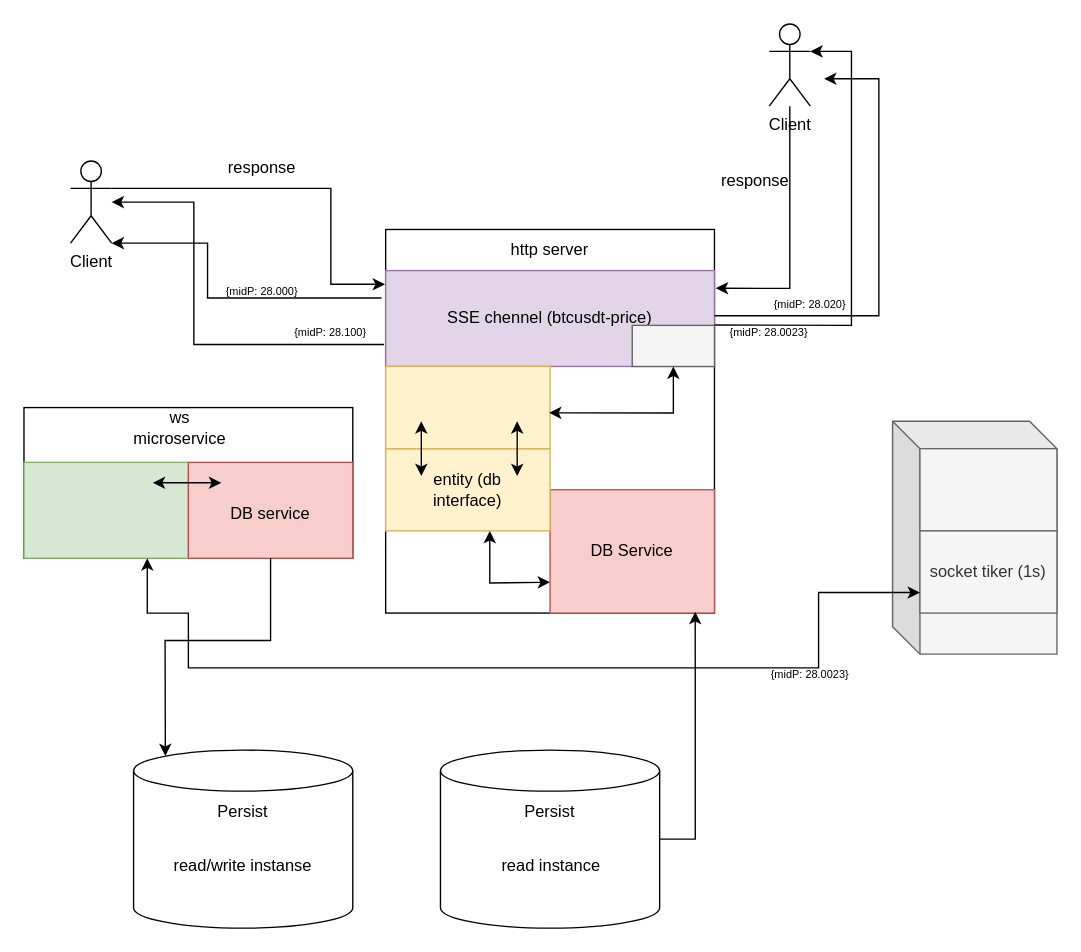
The diagram is 1081 pixels wide and 952 high, and some of its shapes have lost their labels. The centre of each missing label's shape, as x and y in pixels:
"n" interval: (x=672, y=345)
calculate service: (x=467, y=407)
GET price: (x=988, y=489)
WebSocket Client: (x=105, y=509)
